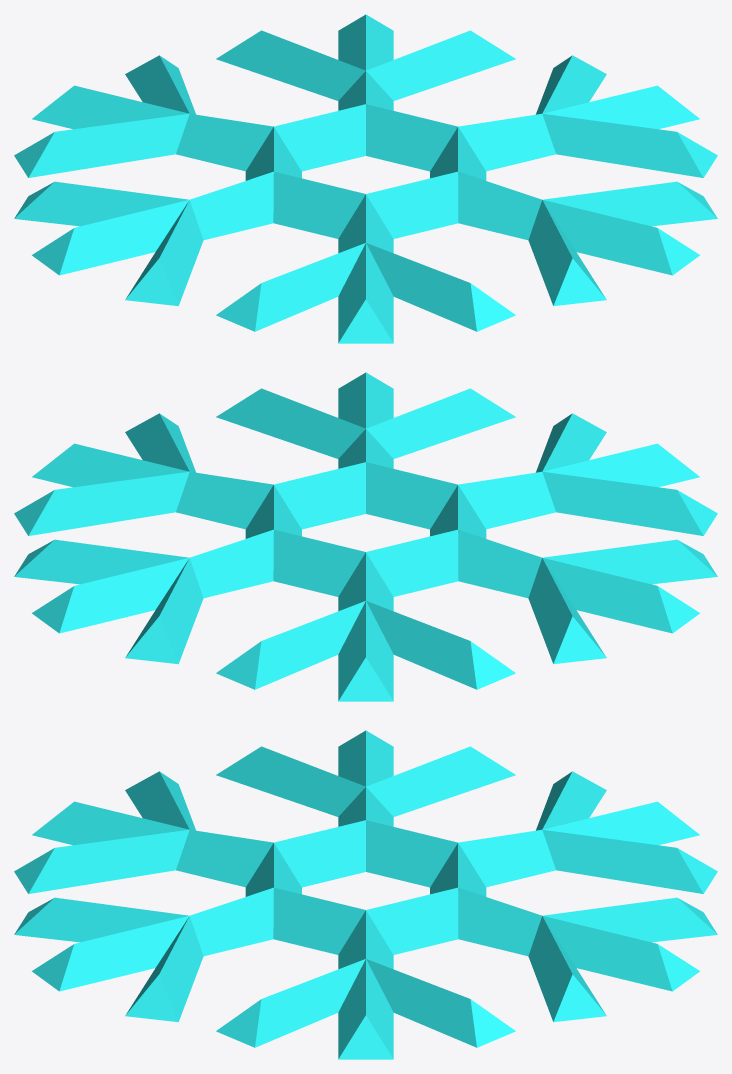
The model's file is Zamrozenie.fbx.
The picture shows the model from 3 angles, top to bottom: view 1: azimuth 30°, elevation 25°; view 2: azimuth 150°, elevation 25°; view 3: azimuth 270°, elevation 25°; orthographic projection.
Parts seen in each view (by area): view 1: Cylinder; view 2: Cylinder; view 3: Cylinder.
Part boxes in pixels (bbox=[...]): Cylinder: bbox=[14, 14, 717, 343]; Cylinder: bbox=[14, 372, 717, 701]; Cylinder: bbox=[14, 730, 717, 1059].
Size of the model in its own units: 440 by 25 by 418.
